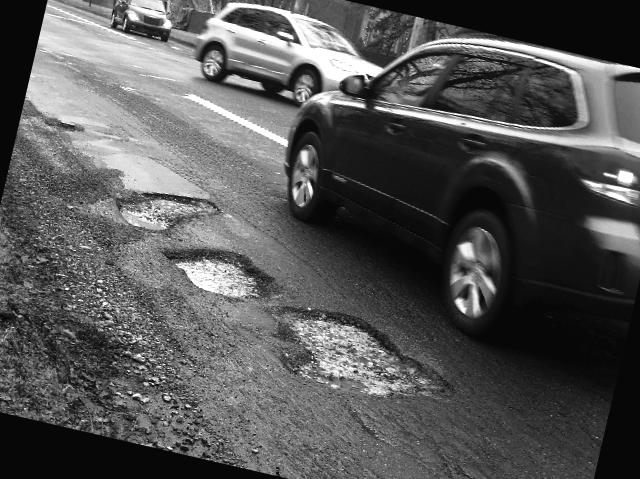Pothole: (250, 295, 466, 424), (161, 230, 286, 310), (107, 172, 223, 254), (38, 109, 85, 147)
